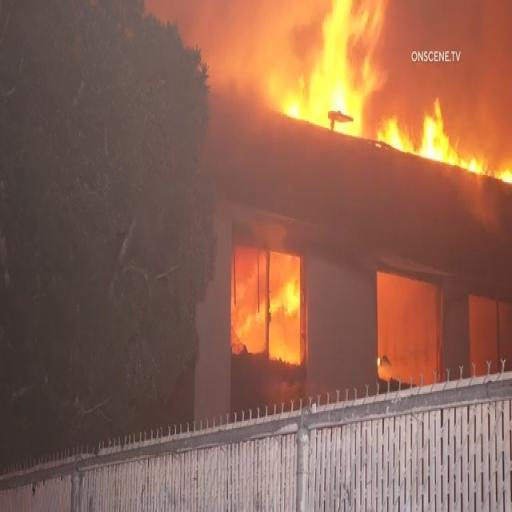fire: (290, 7, 392, 124), (240, 270, 299, 356), (418, 100, 464, 159), (374, 111, 414, 158)
